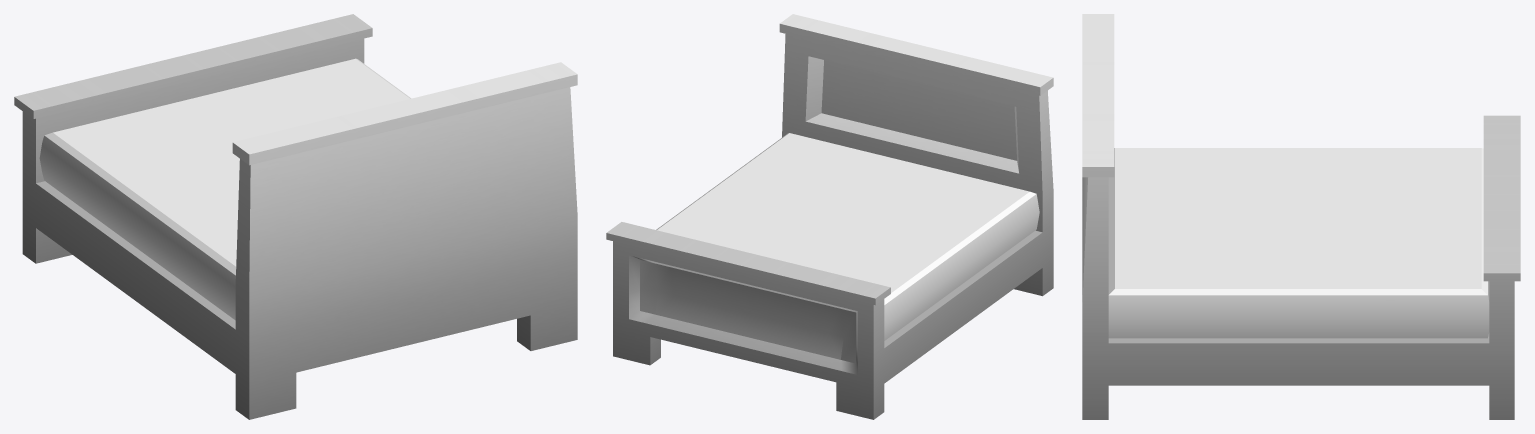
File: Bed.fbx
3 views of the same model, side by side, from view 1: azimuth 30°, elevation 25°; view 2: azimuth 150°, elevation 25°; view 3: azimuth 270°, elevation 25° (orthographic). The views are drawn at different scales.
Visible parts, largest first — view 1: Bed, pCube2; view 2: Bed, pCube2; view 3: pCube2, Bed.
Part boxes in pixels (x1,y1,x2,y2): Bed: (14, 14, 577, 419); pCube2: (39, 58, 411, 320); Bed: (606, 14, 1053, 419); pCube2: (656, 133, 1039, 340); pCube2: (1108, 148, 1489, 338); Bed: (1082, 14, 1520, 419).
Bounding box in the file's own units: 16.16 × 12.09 × 18.96.
